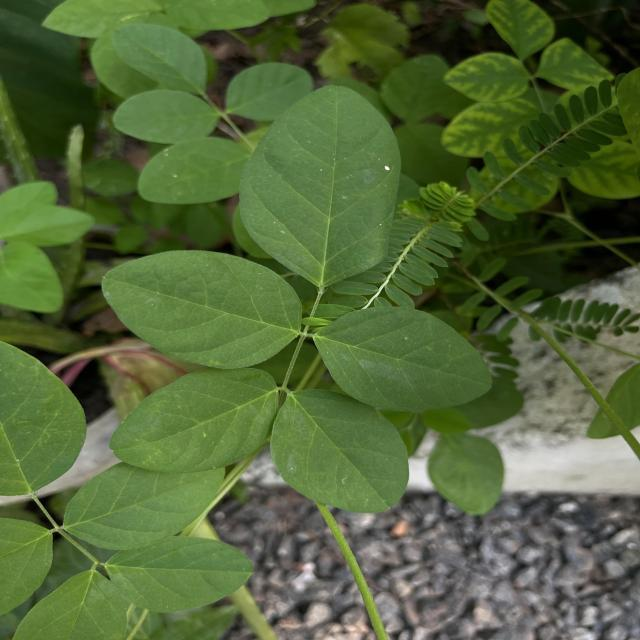Clitoria ternatea: (234, 80, 404, 290), (96, 245, 308, 372), (312, 301, 498, 416), (108, 364, 282, 476), (266, 386, 412, 516), (100, 532, 260, 615)
